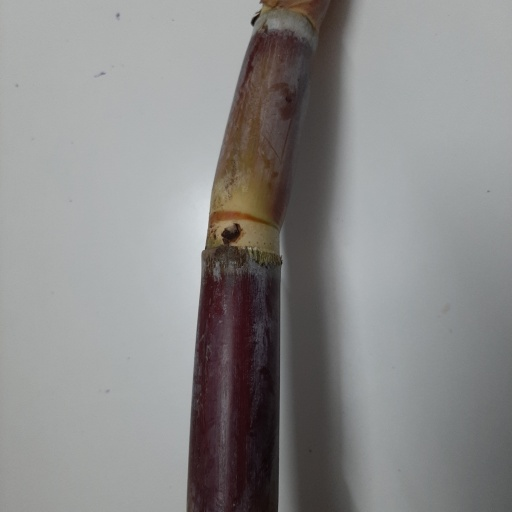Damage_Bud: (221, 221, 242, 247)
